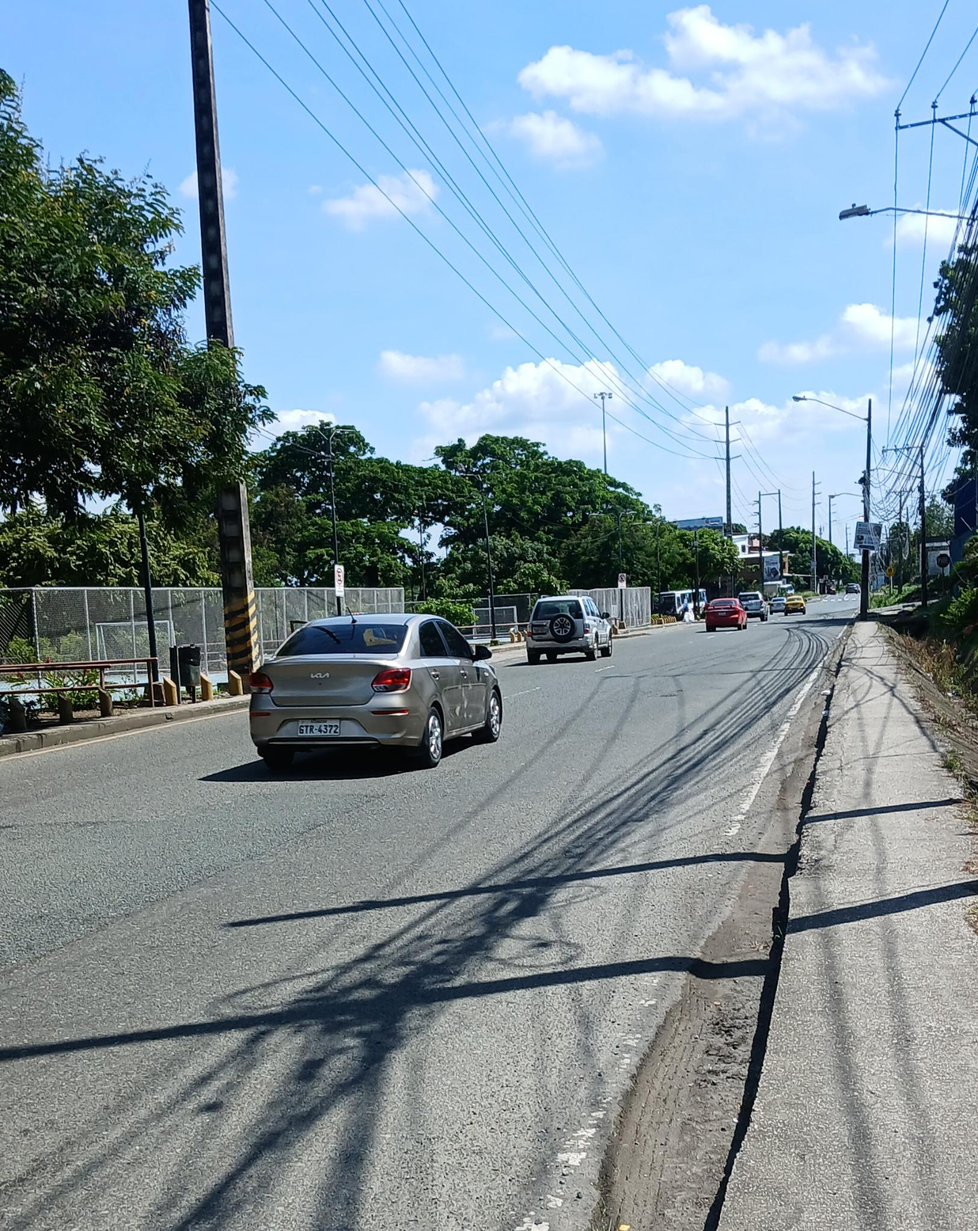license_plate: (294, 720, 341, 735)
